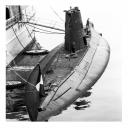submarine: (26, 1, 112, 122)
